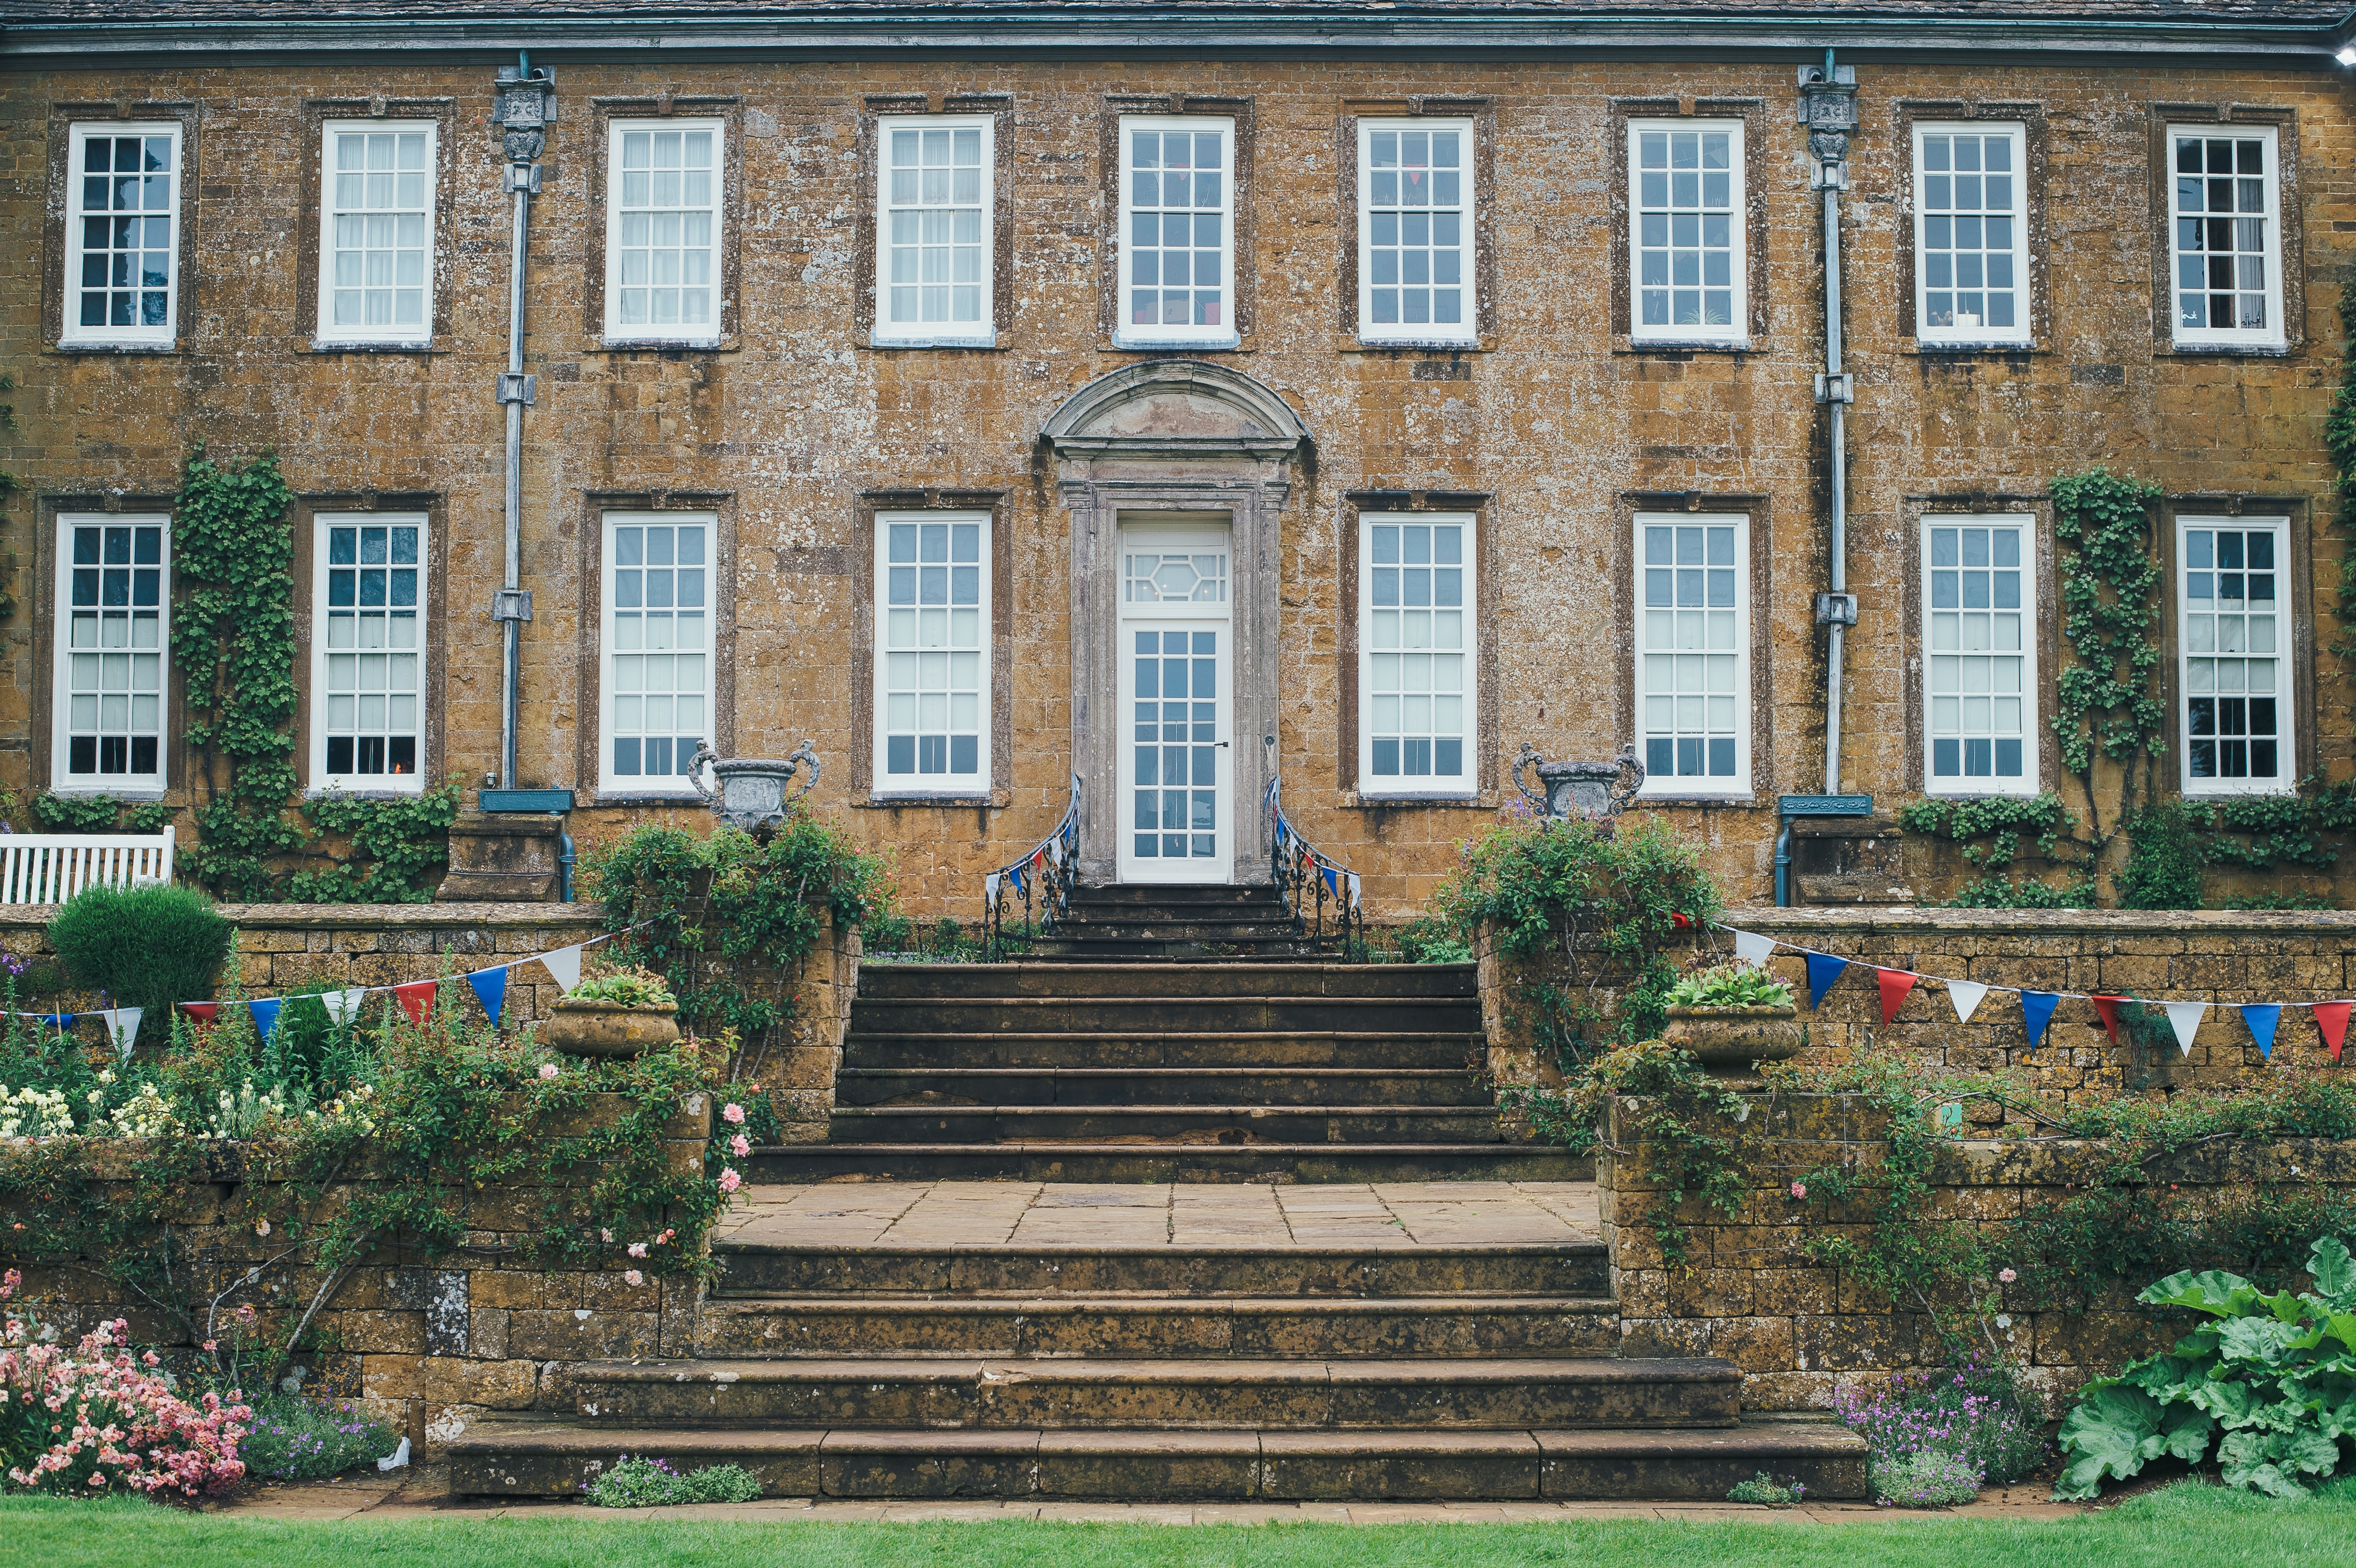upstairs: (774, 1227, 1596, 1521)
